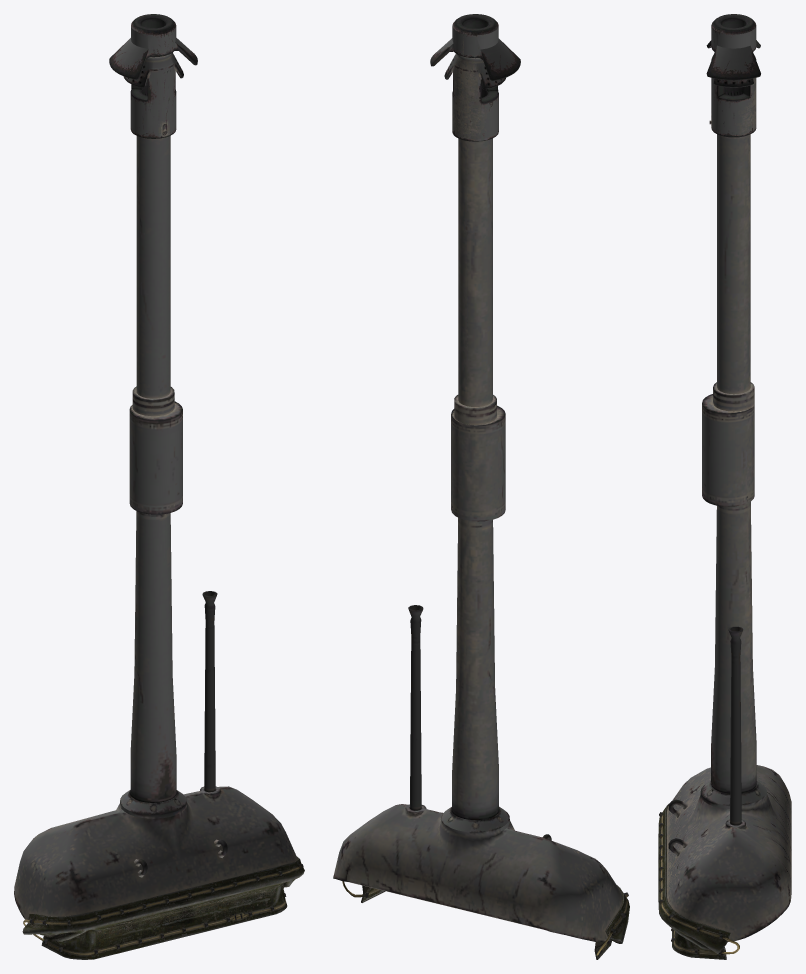
Rendered from Gun_01.glb.
The picture shows the model from 3 angles, left to right: view 1: azimuth 30°, elevation 25°; view 2: azimuth 150°, elevation 25°; view 3: azimuth 270°, elevation 25°; orthographic projection. The views are drawn at different scales.
Parts seen in each view (by area): view 1: set_0_group_0; view 2: set_0_group_0; view 3: set_0_group_0.
Boxes of the visible parts, x1,y1,x2,y2 form: set_0_group_0: [14, 14, 304, 959]; set_0_group_0: [333, 14, 629, 959]; set_0_group_0: [658, 14, 791, 959].
Bounding box in the file's own units: 1.55 × 4.9 × 0.6721.
Materials: 1 (1 with a texture image).
